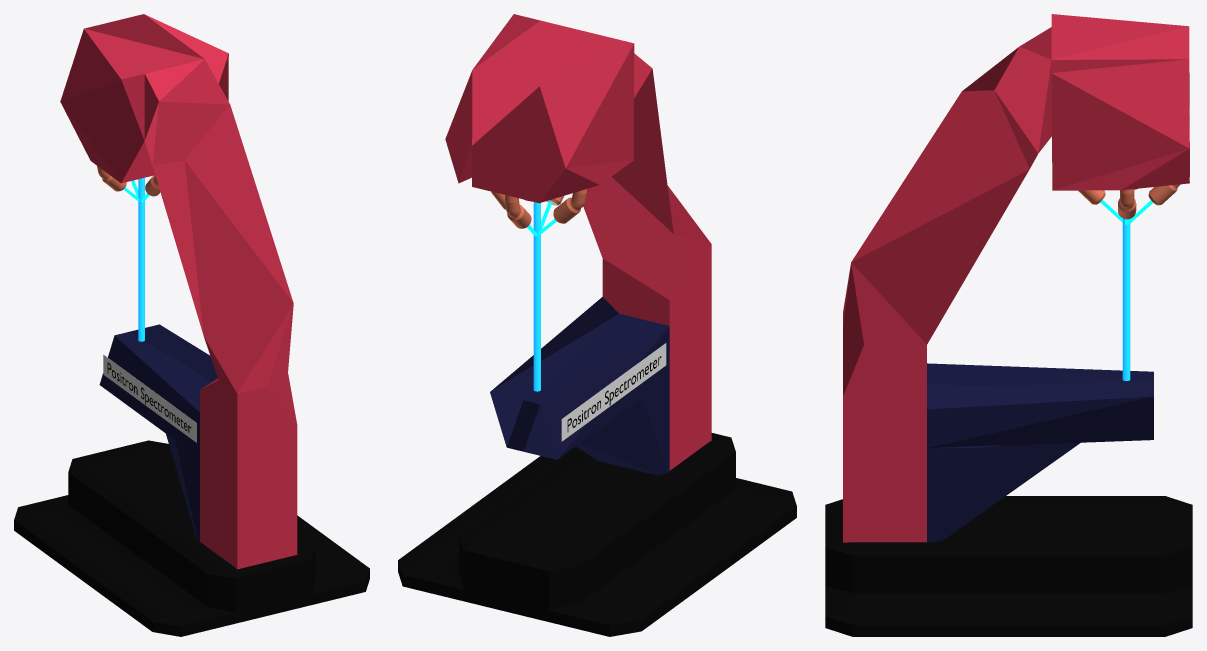
The model's file is FutureMicroscope.gltf.
The picture shows the model from 3 angles, left to right: view 1: azimuth 30°, elevation 25°; view 2: azimuth 150°, elevation 25°; view 3: azimuth 270°, elevation 25°; orthographic projection. The views are drawn at different scales.
Visible parts, largest first — view 1: Neck of the Microscope, Base, Cube.002, Cylinder; view 2: Neck of the Microscope, Base, Cube.002, Cylinder, Cylinder.001, Cylinder.003; view 3: Neck of the Microscope, Base, Cylinder.
Part boxes in pixels (box(x1,y1,x2,y2)): Neck of the Microscope: box(60, 14, 297, 569); Base: box(14, 440, 369, 636); Cube.002: box(103, 354, 196, 442); Cylinder: box(138, 177, 144, 341); Neck of the Microscope: box(445, 14, 711, 475); Base: box(398, 433, 796, 636); Cube.002: box(561, 343, 666, 441); Cylinder: box(533, 202, 540, 391); Cylinder.001: box(553, 189, 587, 223); Cylinder.003: box(505, 195, 531, 228); Neck of the Microscope: box(843, 14, 1189, 542); Base: box(825, 496, 1192, 636); Cylinder: box(1122, 218, 1130, 380).
Bounding box in the file's own units: 0.4633 × 0.9682 × 0.6013.
